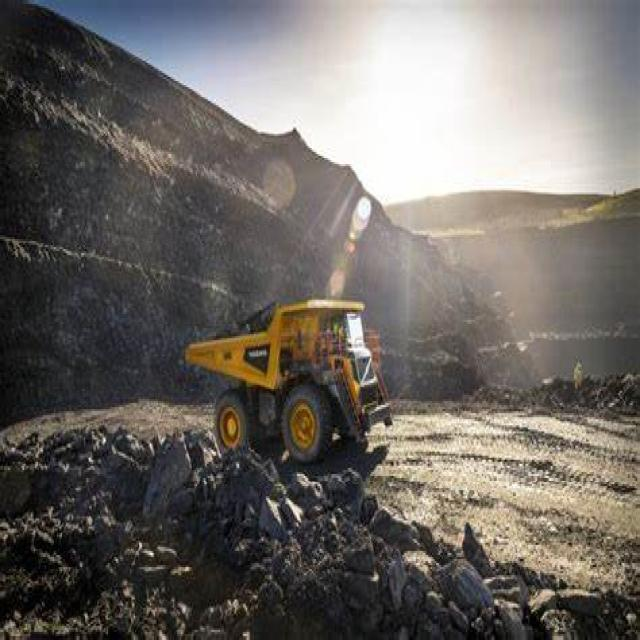dump_truck: (180, 273, 398, 478)
